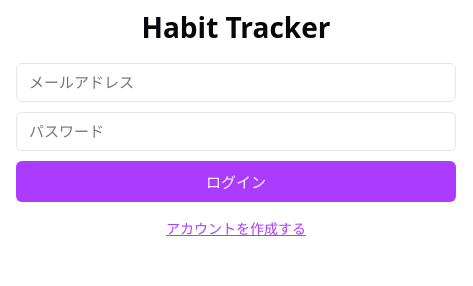
Scenario: LoginForm › メール重複エラーの場合、登録済みであることを表示する
Step 1. Click the button "アカウントを作成する" → x=236, y=228, box [166,218,306,238]
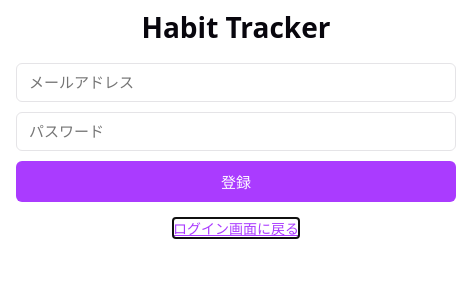
Step 2. Type "dup@example.com" into the field labelled "メールアドレス" → x=236, y=83, box [16,63,456,102]
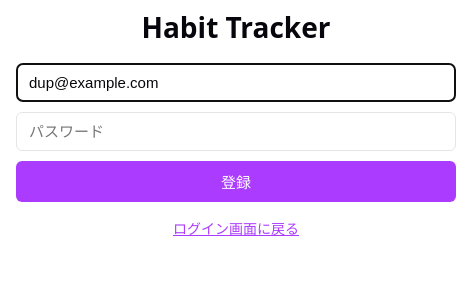
Step 3. Type "password123" into the password field labelled "パスワード" → x=236, y=132, box [16,112,456,151]
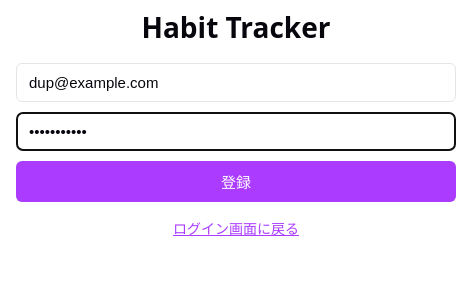
Step 4. Click the button "登録" → x=236, y=182, box [16,161,456,202]
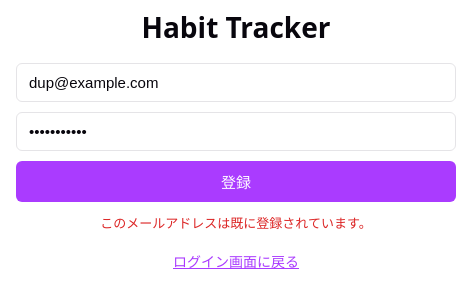
Expected: the text "このメールアドレスは既に登録されています。" is shown, [100,214,372,232]
